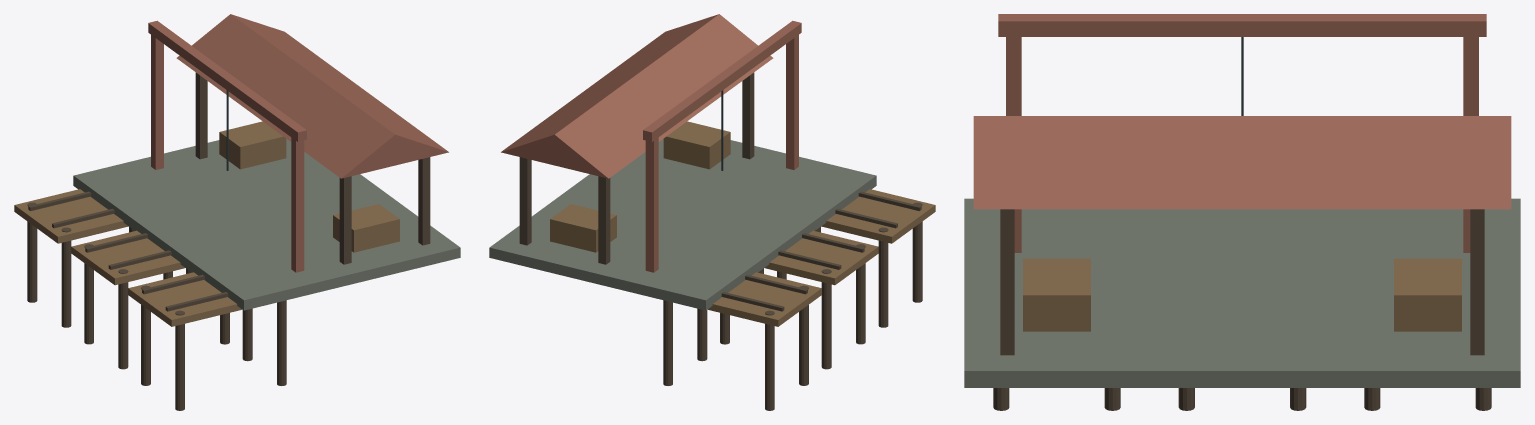
The model's file is layout_shipyard.glb.
The picture shows the model from 3 angles, left to right: view 1: azimuth 30°, elevation 25°; view 2: azimuth 150°, elevation 25°; view 3: azimuth 270°, elevation 25°; orthographic projection. The views are drawn at different scales.
Visible parts, largest first — view 1: shipyard_HarborLayout_rock, shipyard_HarborLayout_red, shipyard_HarborLayout_wood, shipyard_HarborLayout_beam; view 2: shipyard_HarborLayout_rock, shipyard_HarborLayout_red, shipyard_HarborLayout_wood, shipyard_HarborLayout_beam; view 3: shipyard_HarborLayout_rock, shipyard_HarborLayout_red, shipyard_HarborLayout_wood, shipyard_HarborLayout_beam.
Boxes of the visible parts, <box> form: shipyard_HarborLayout_rock: <box>73,139,460,310</box>; shipyard_HarborLayout_red: <box>148,14,448,272</box>; shipyard_HarborLayout_wood: <box>14,121,399,326</box>; shipyard_HarborLayout_beam: <box>27,72,430,410</box>; shipyard_HarborLayout_rock: <box>489,139,876,310</box>; shipyard_HarborLayout_red: <box>501,14,801,272</box>; shipyard_HarborLayout_wood: <box>550,121,935,326</box>; shipyard_HarborLayout_beam: <box>519,72,922,410</box>; shipyard_HarborLayout_rock: <box>964,198,1520,387</box>; shipyard_HarborLayout_red: <box>973,14,1511,252</box>; shipyard_HarborLayout_wood: <box>1023,258,1461,331</box>; shipyard_HarborLayout_beam: <box>993,209,1491,410</box>.
Size of the model in its own units: 8.6 by 7.24 by 9.
